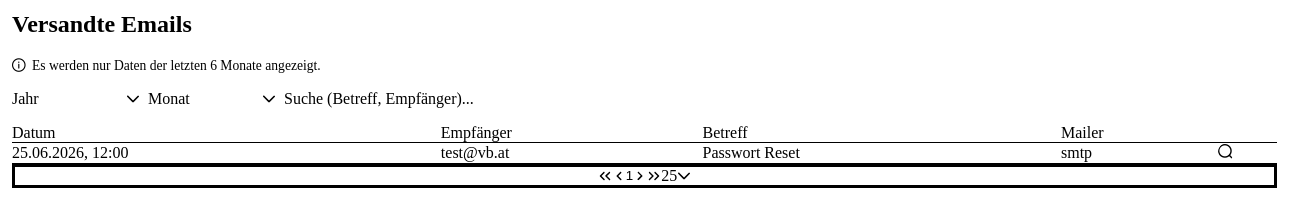
Scenario: SentEmailsView.vue › search › regression: a slow answer for an earlier term does not replace the newer rows
In the field with class "filter-search": (780, 99) [284,90,1277,108], type "old"
Wait 300 ms
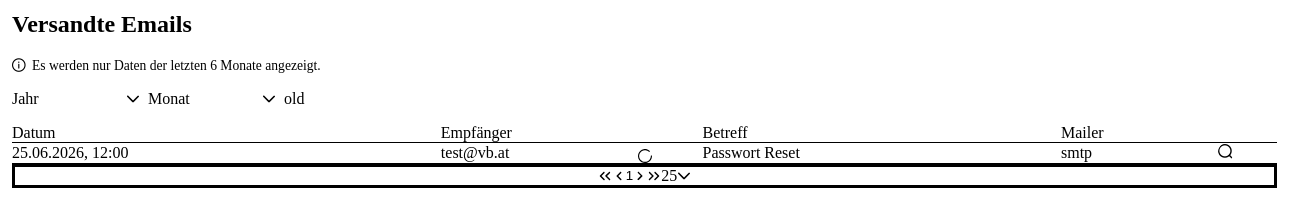
Replace the text in the field with class "filter-search" with "new": (780, 99) [284,90,1277,108]
Wait 300 ms
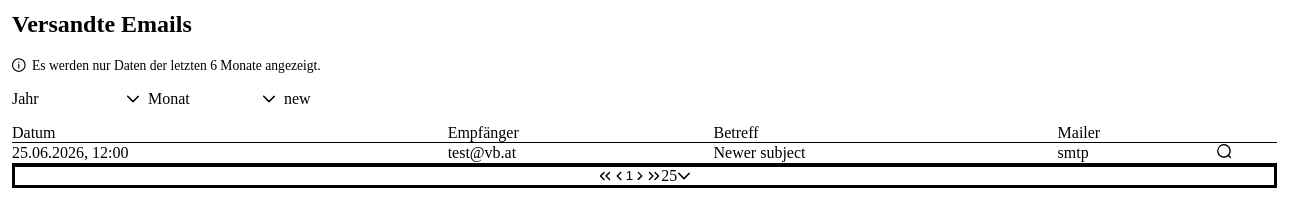
Expected: the text "Newer subject" is shown, [714,143,1058,164]
